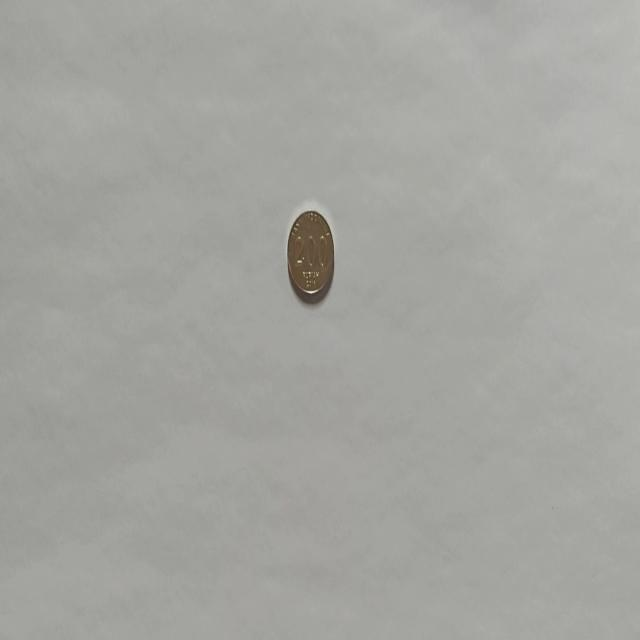dua ratus rupiah: (286, 207, 334, 303)
